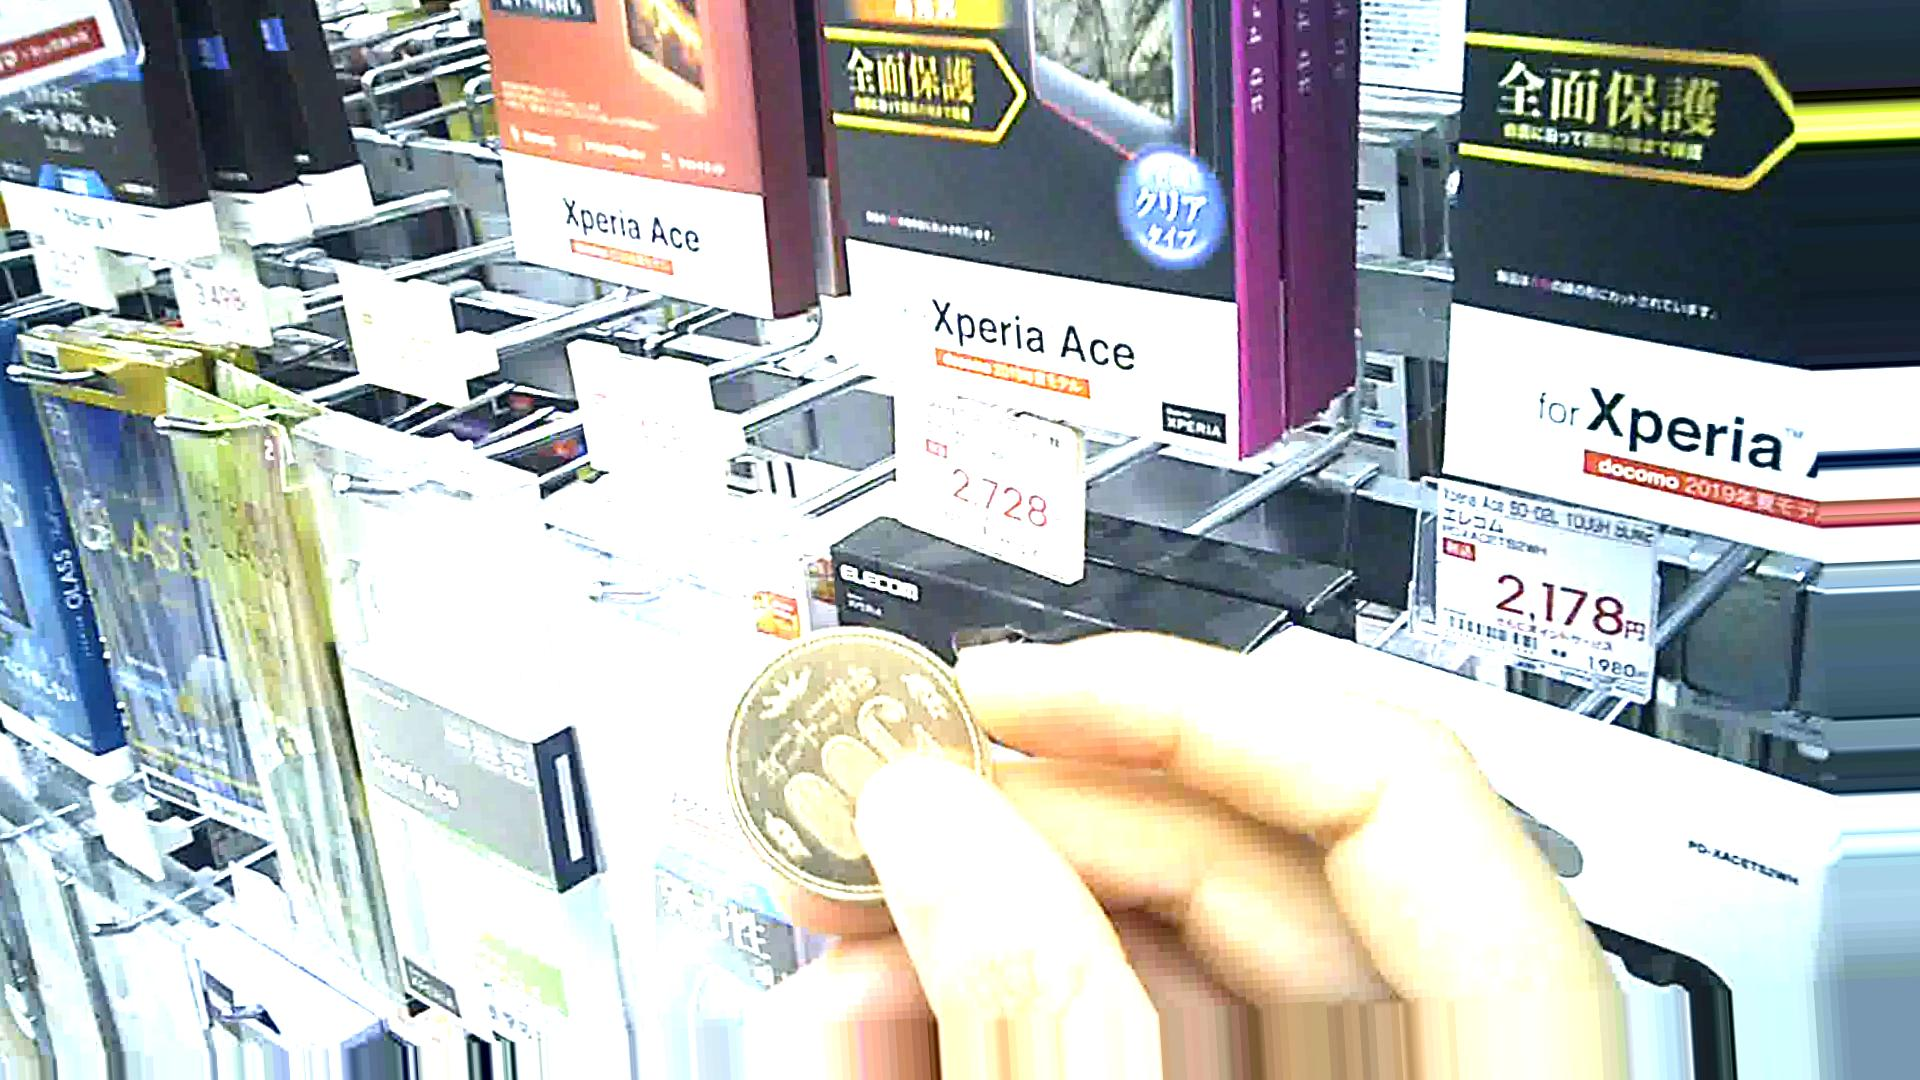500 Yen: (727, 629, 1013, 920)
